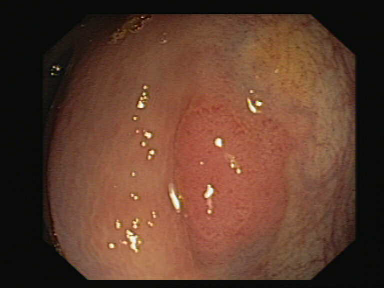polyp: (144, 66, 322, 253)
